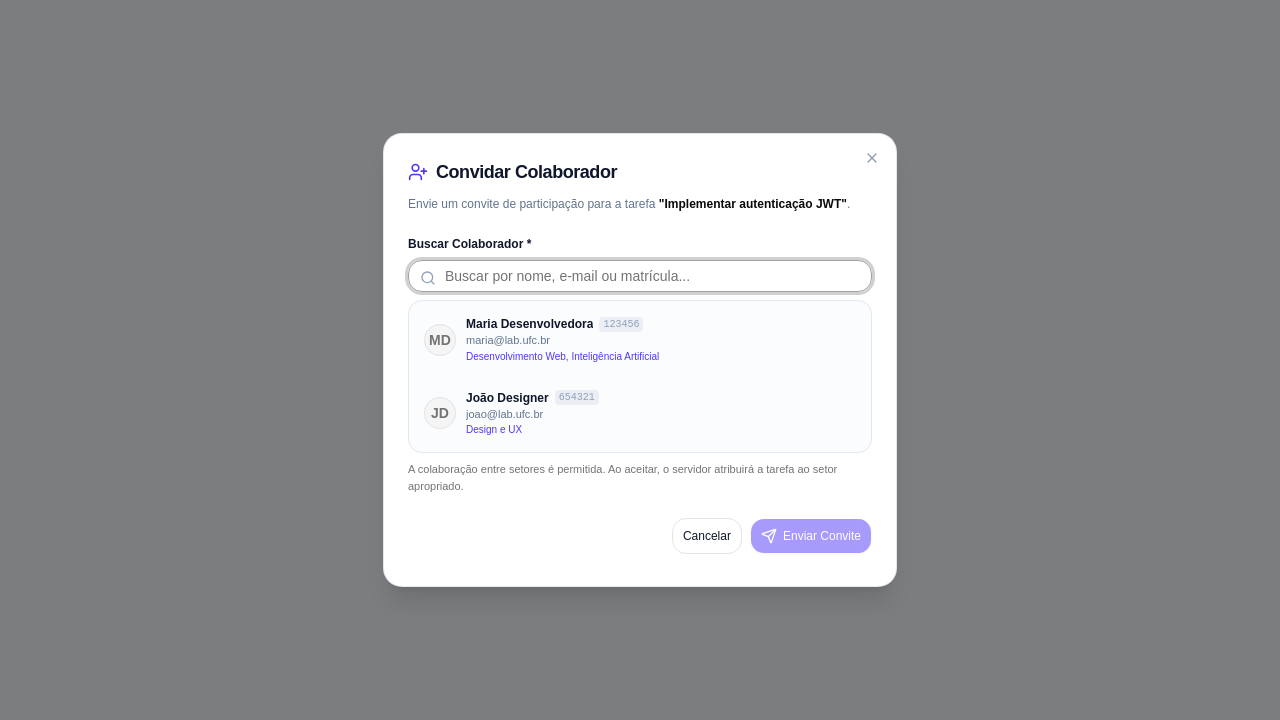
InviteCollaboratorModal › permite trocar o colaborador selecionado para escolher outro
Click the text "Maria Desenvolvedora" at coordinates (530, 324), box [466,316,593,332]
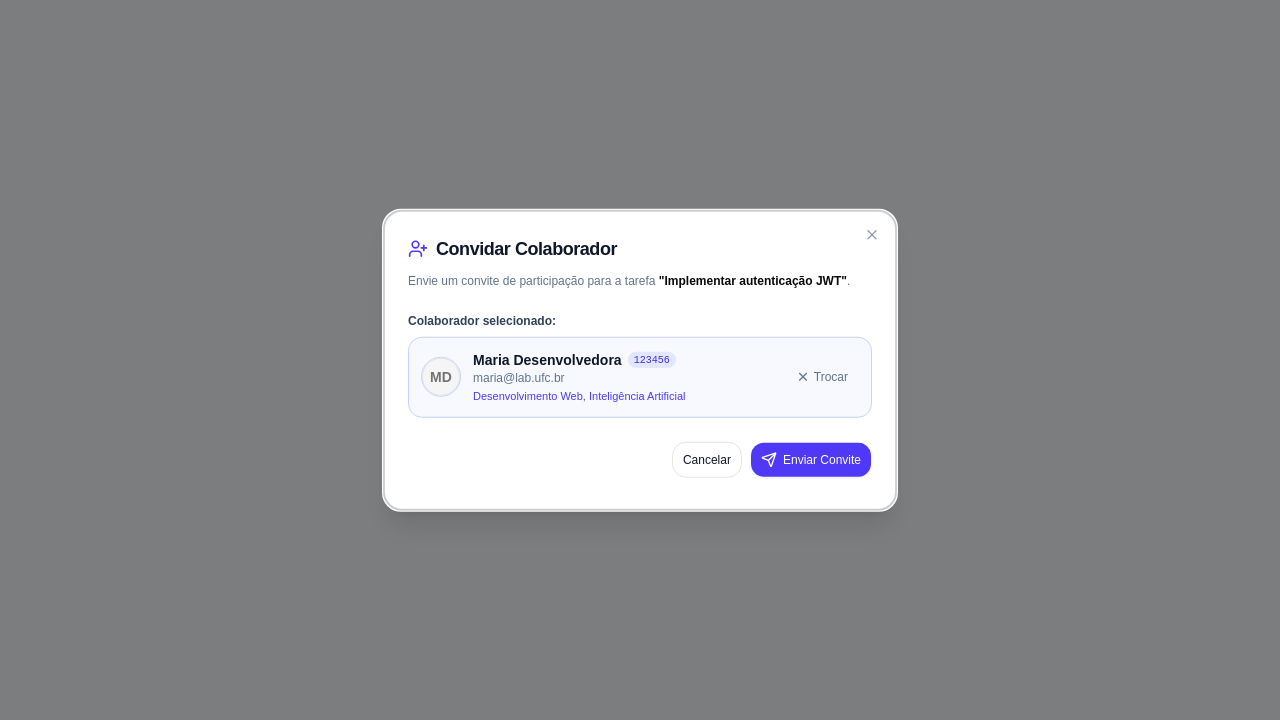
Check: the button "Trocar" is shown
Click the button "Trocar" at coordinates (822, 377), box [785,361,859,393]
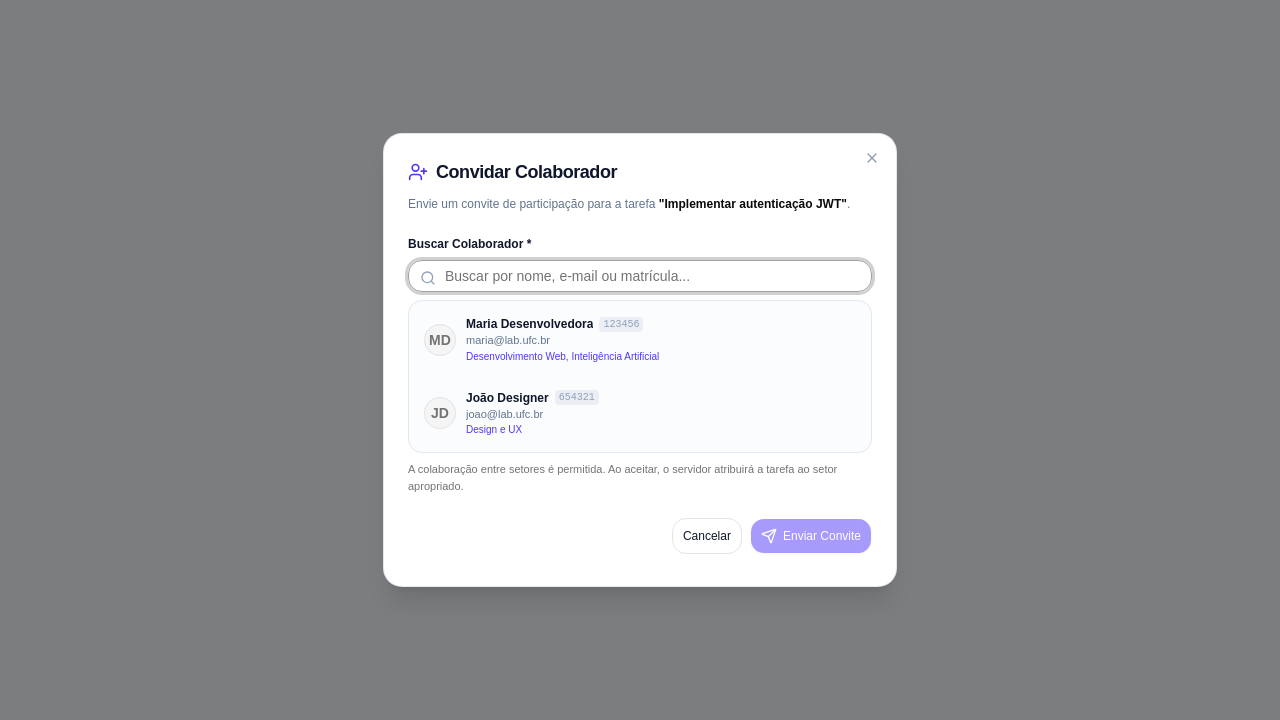
Check: the field with placeholder "Buscar por nome, e-mail ou matrícula..." is shown, box [408,260,872,292]
